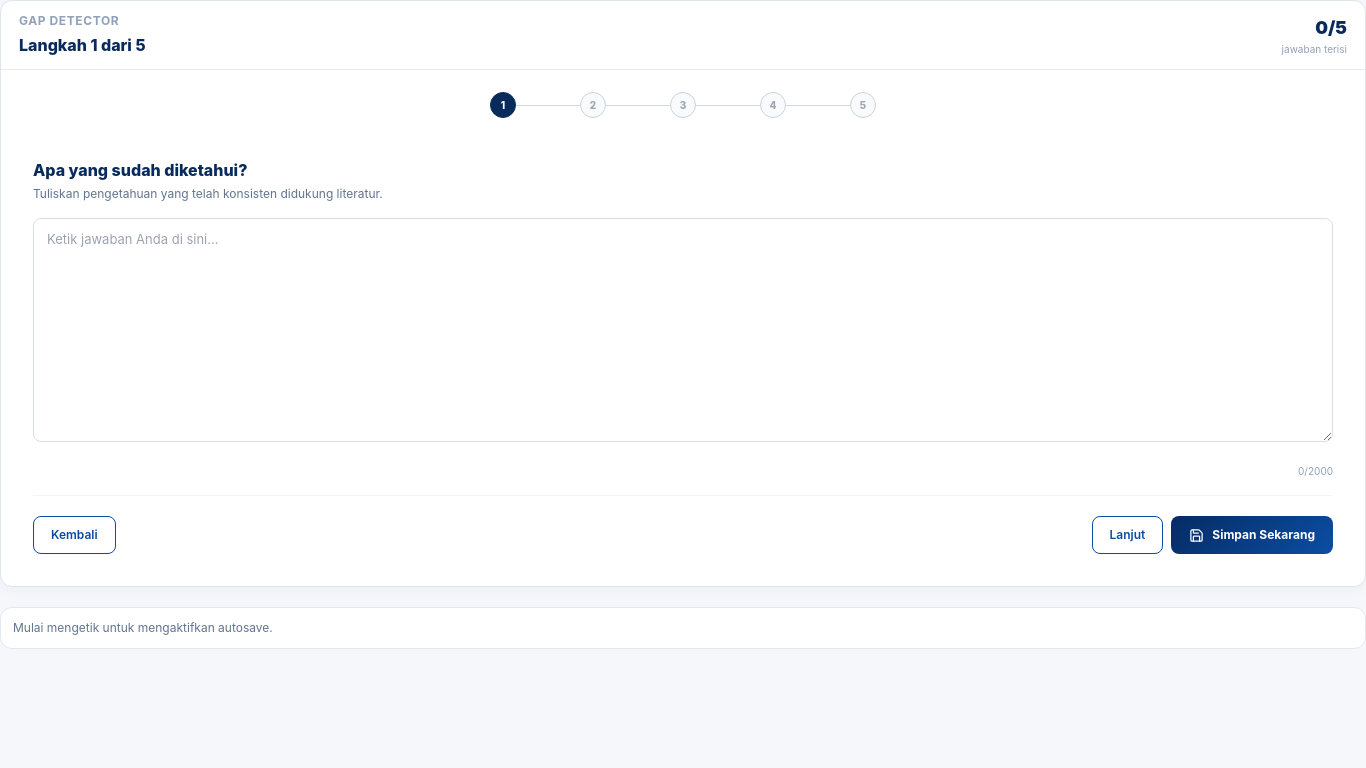
structured worksheet autosave › shows a retry control after a Gap Detector network failure
The width and height of the screenshot is (1366, 768).
In the text box named "Apa yang sudah diketahui?": x=683, y=330 [33,218,1333,442], type "Pengetahuan mapan"
Wait 1200 ms
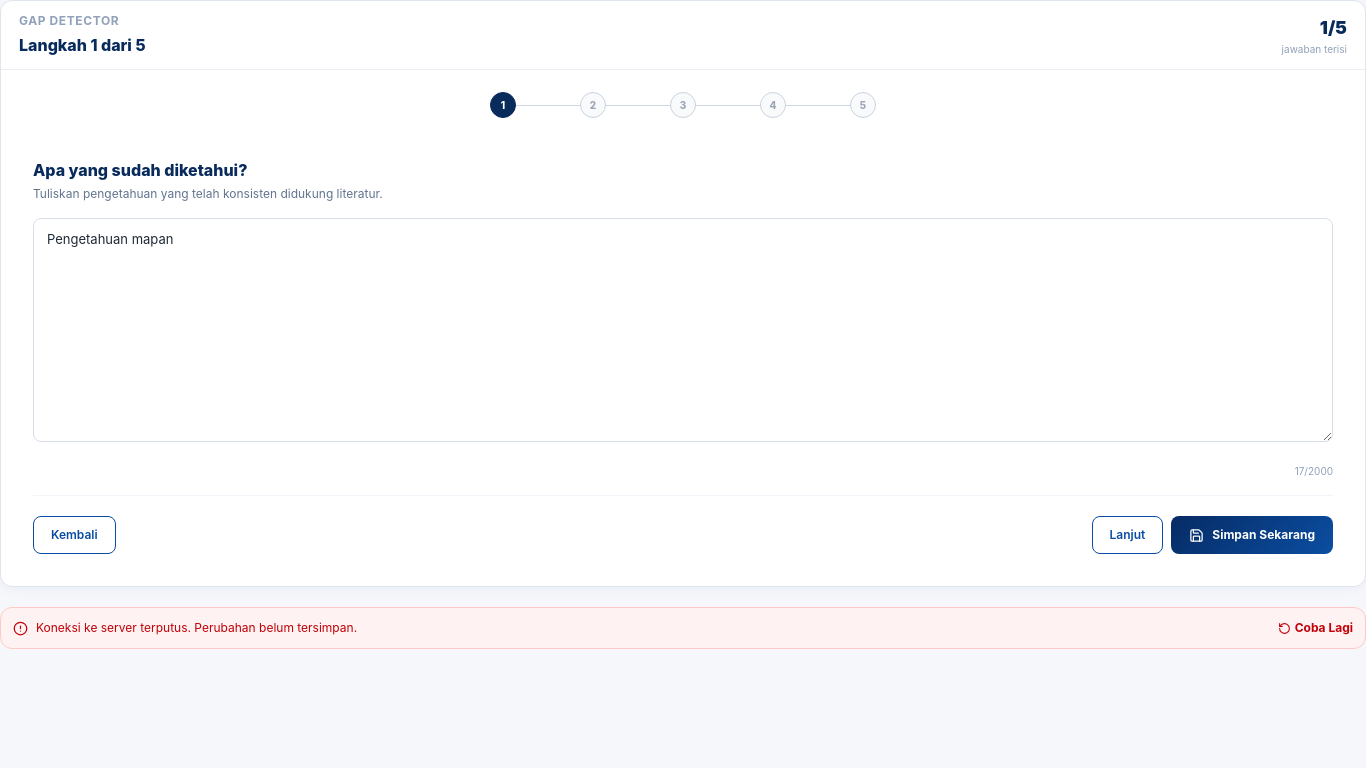
Check: the text "Koneksi ke server terputus. Perubahan belum tersimpan." is shown, box [36,620,357,635]
Check: the button "Coba Lagi" is shown, box [1278,620,1353,636]
